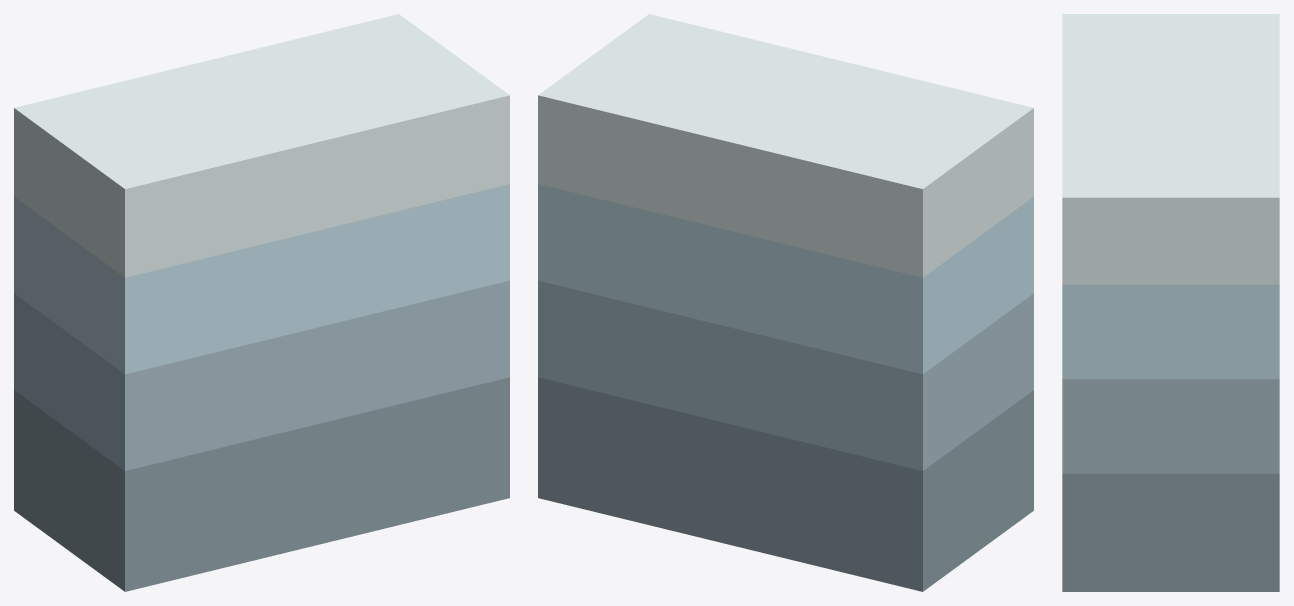
Rendered from Ice_VerticalSlab.glb.
3 renders of one model, left to right at view 1: azimuth 30°, elevation 25°; view 2: azimuth 150°, elevation 25°; view 3: azimuth 270°, elevation 25°, orthographic. The views are drawn at different scales.
Parts seen in each view (by area): view 1: Ice_VerticalSlab_body; view 2: Ice_VerticalSlab_body; view 3: Ice_VerticalSlab_body.
Boxes of the visible parts, <box> form: Ice_VerticalSlab_body: <box>14,14,509,591</box>; Ice_VerticalSlab_body: <box>538,14,1033,591</box>; Ice_VerticalSlab_body: <box>1062,14,1279,591</box>.
Bounding box in the file's own units: 1 × 1 × 0.5.
